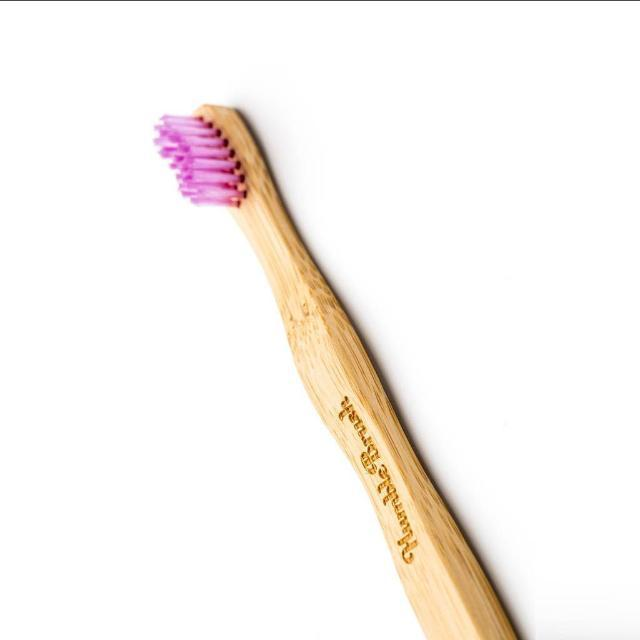toothbrush: (114, 46, 566, 640)
